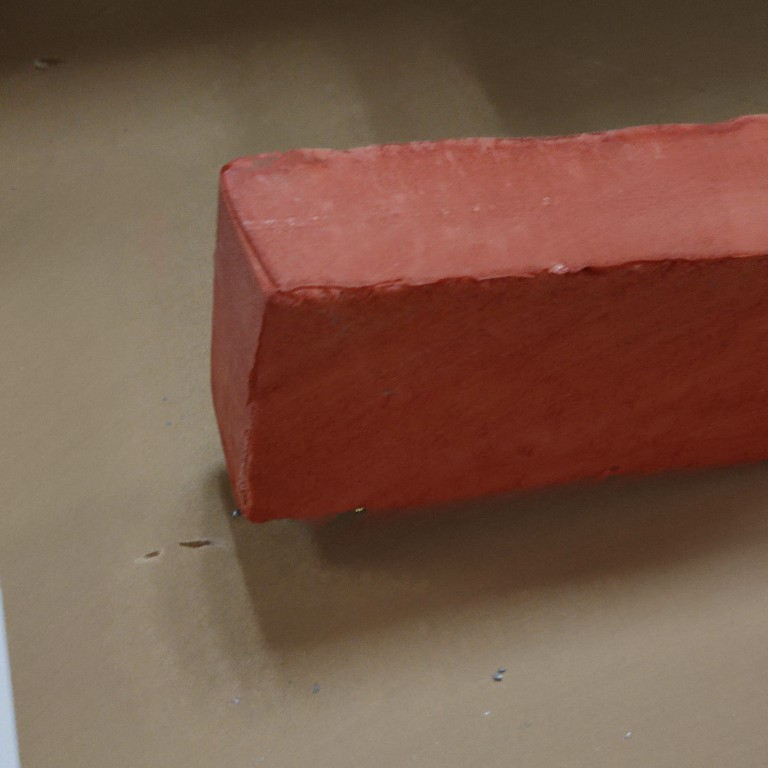brick: (207, 109, 768, 524)
